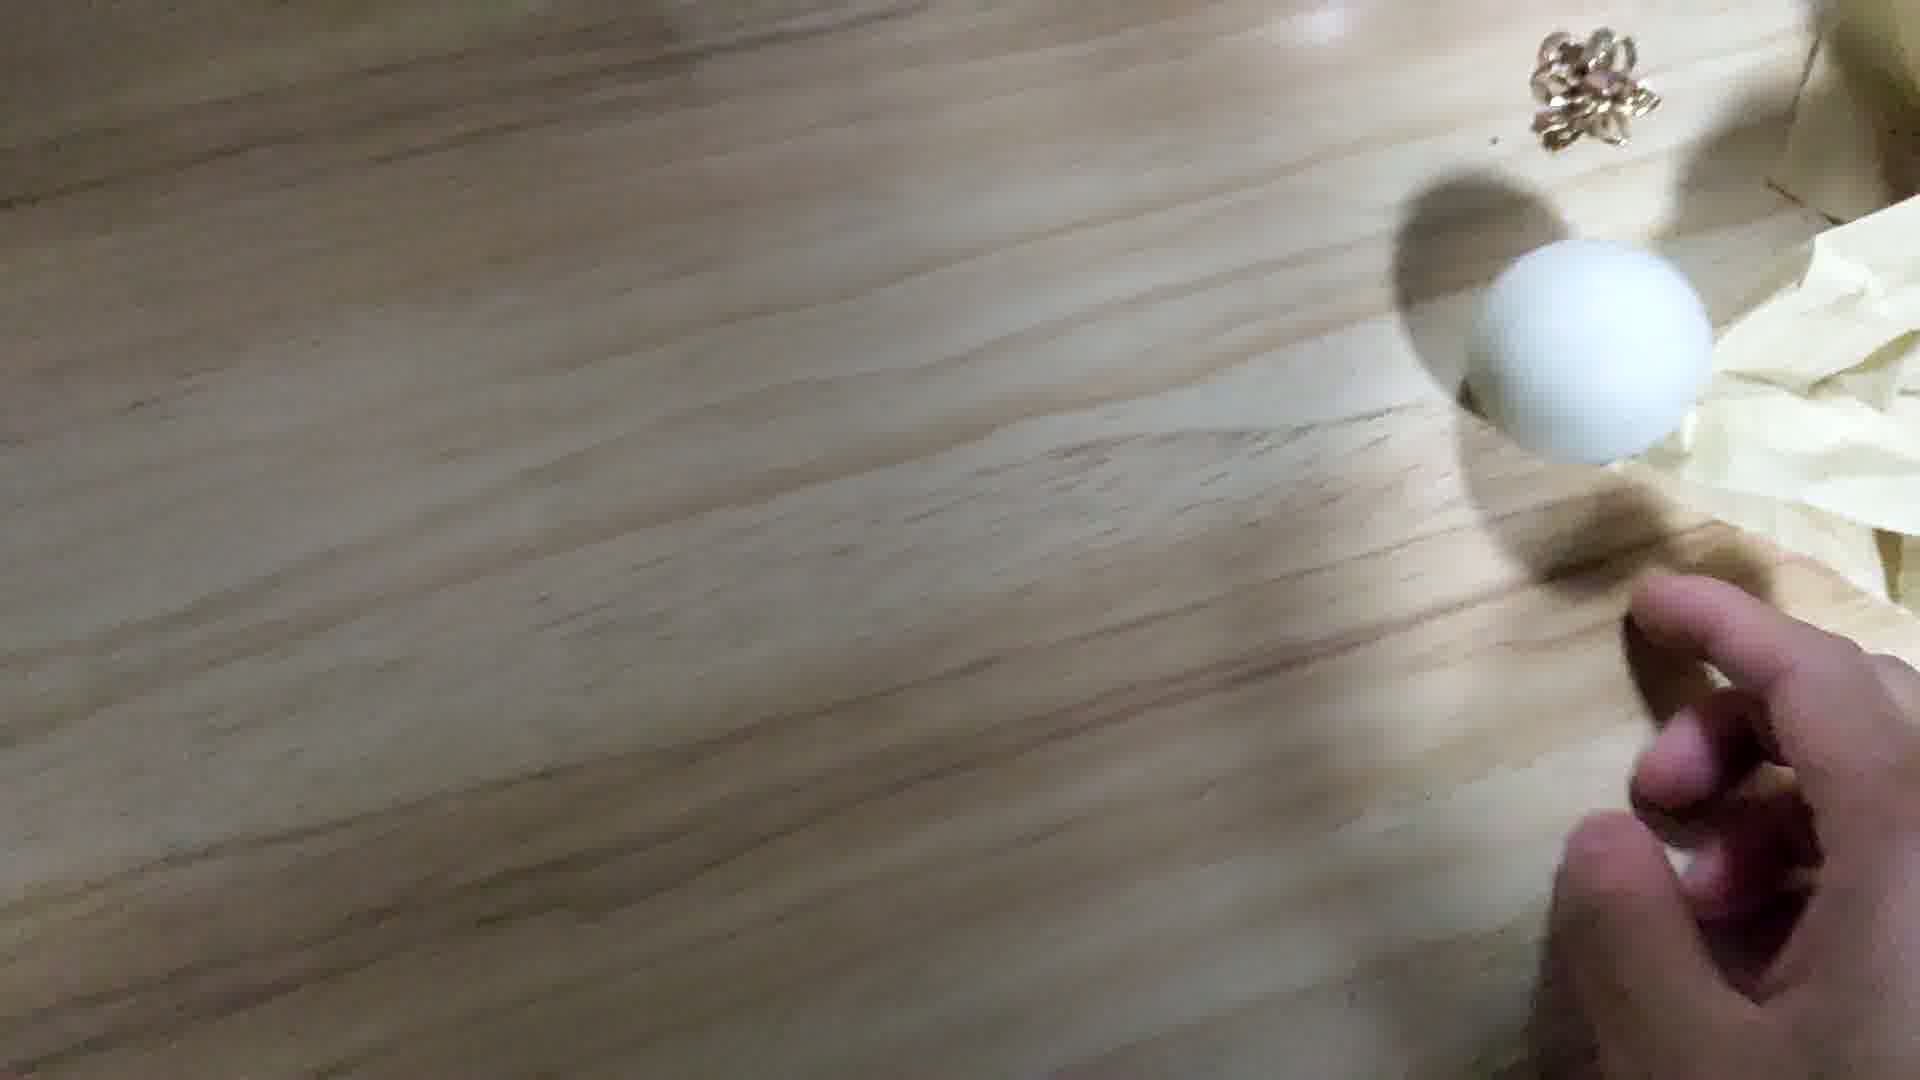Ball: (1476, 235, 1714, 471)
